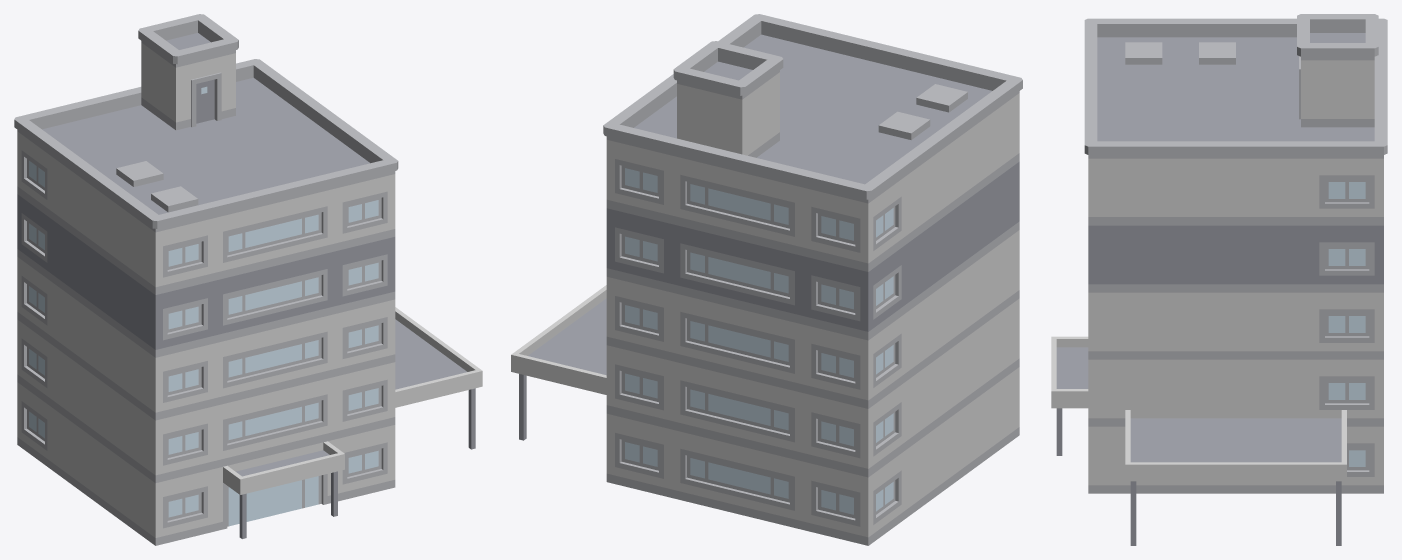
The model's file is hospital.glb.
3 renders of one model, left to right at view 1: azimuth 30°, elevation 25°; view 2: azimuth 150°, elevation 25°; view 3: azimuth 270°, elevation 25°, orthographic. The views are drawn at different scales.
Parts seen in each view (by area): view 1: large_buildingG; view 2: large_buildingG; view 3: large_buildingG.
Boxes of the visible parts, x1=… form: large_buildingG: x1=14, y1=14, x2=482, y2=545; large_buildingG: x1=511, y1=14, x2=1022, y2=545; large_buildingG: x1=1051, y1=14, x2=1387, y2=545.
Bounding box in the file's own units: 2.32 × 2.48 × 1.82.
